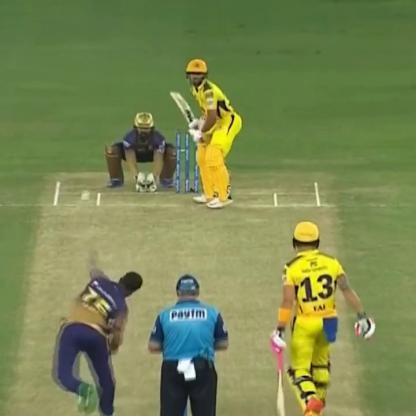ball: (77, 188, 95, 205)
bat: (166, 88, 200, 139)
pitch: (6, 174, 352, 415)
